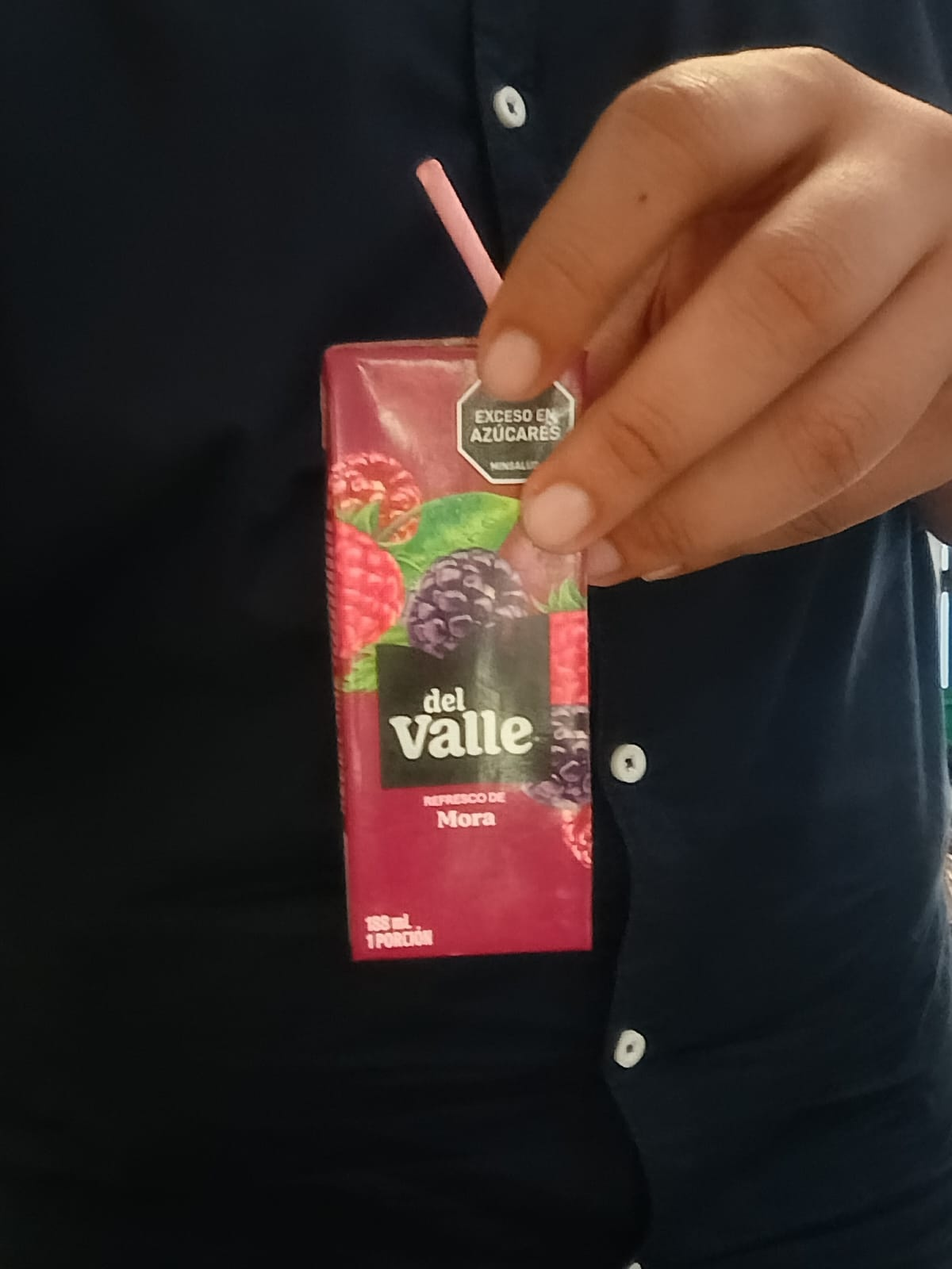Carton: (324, 336, 590, 959)
